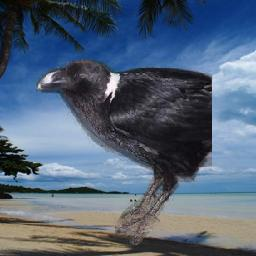Crow: (36, 59, 212, 246)
